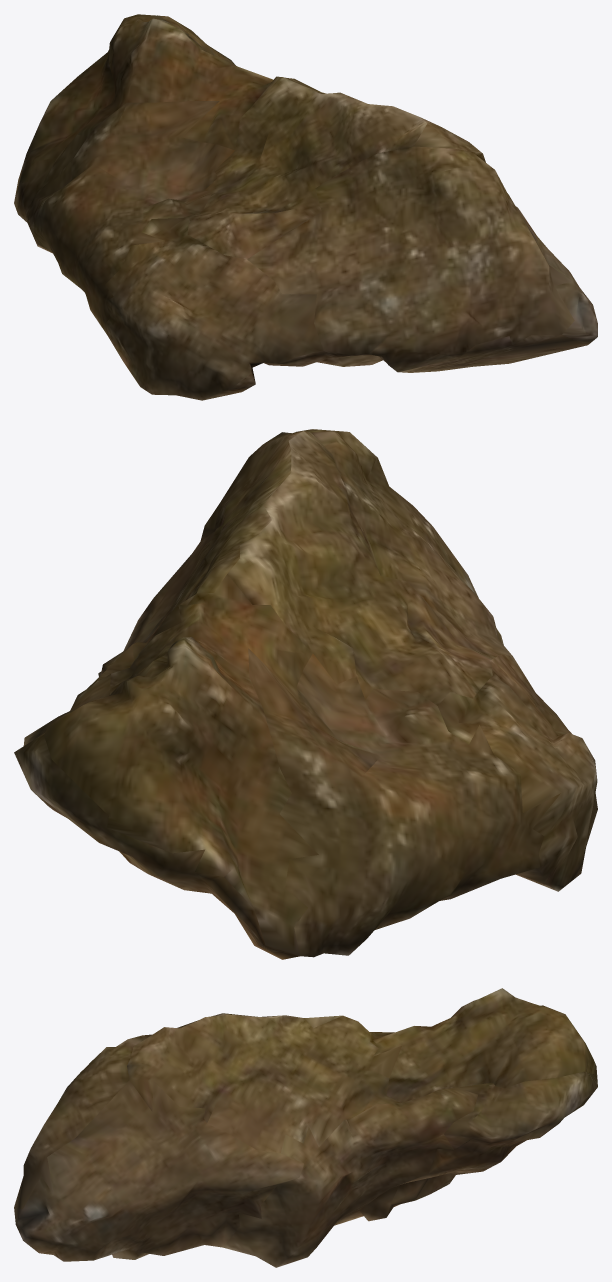
File: rock_0.glb
3 views of the same model, one above another, from view 1: azimuth 30°, elevation 25°; view 2: azimuth 150°, elevation 25°; view 3: azimuth 270°, elevation 25° (orthographic). The views are drawn at different scales.
Parts seen in each view (by area): view 1: rock_moss_set_01_rock01; view 2: rock_moss_set_01_rock01; view 3: rock_moss_set_01_rock01.
Part boxes in pixels (<box>): rock_moss_set_01_rock01: <box>14,14,597,400</box>; rock_moss_set_01_rock01: <box>14,429,597,959</box>; rock_moss_set_01_rock01: <box>14,988,597,1267</box>.
Bounding box in the file's own units: 2.24 × 1.48 × 3.36.
Materials: 1 (1 with a texture image).
